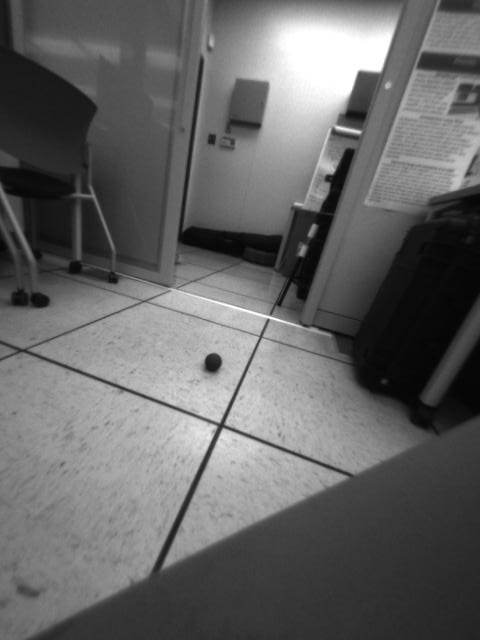dogtoy: (201, 348, 230, 377)
